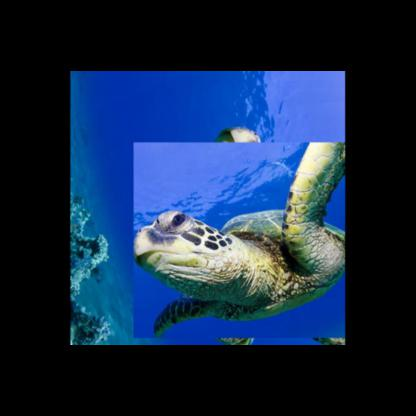turtle: (140, 132, 344, 344)
